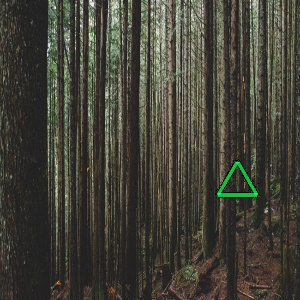triangle: (213, 157, 259, 202)
